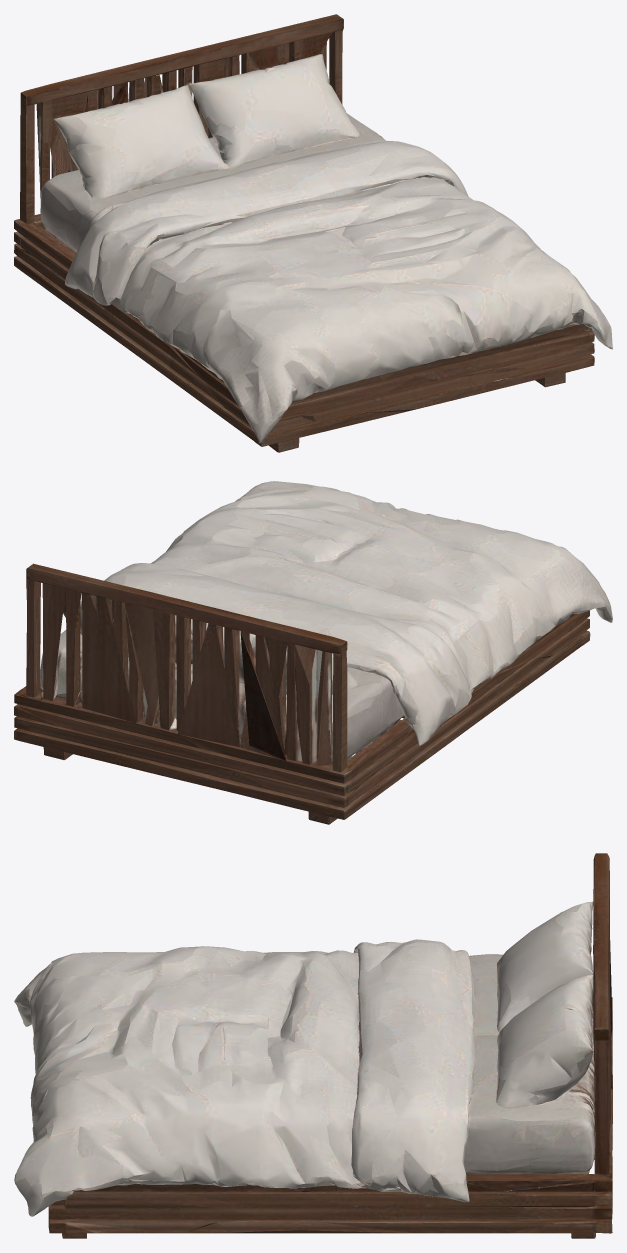
3 views of the same model, one above another, from view 1: azimuth 30°, elevation 25°; view 2: azimuth 150°, elevation 25°; view 3: azimuth 270°, elevation 25° (orthographic). The views are drawn at different scales.
Visible parts, largest first — view 1: Mesh_0; view 2: Mesh_0; view 3: Mesh_0.
Boxes of the visible parts, x1=… form: Mesh_0: x1=14, y1=14, x2=612, y2=452; Mesh_0: x1=14, y1=481, x2=612, y2=824; Mesh_0: x1=14, y1=853, x2=612, y2=1238.
Size of the model in its own units: 1.73 by 0.85 by 2.12.
1 material, 1 textured.
